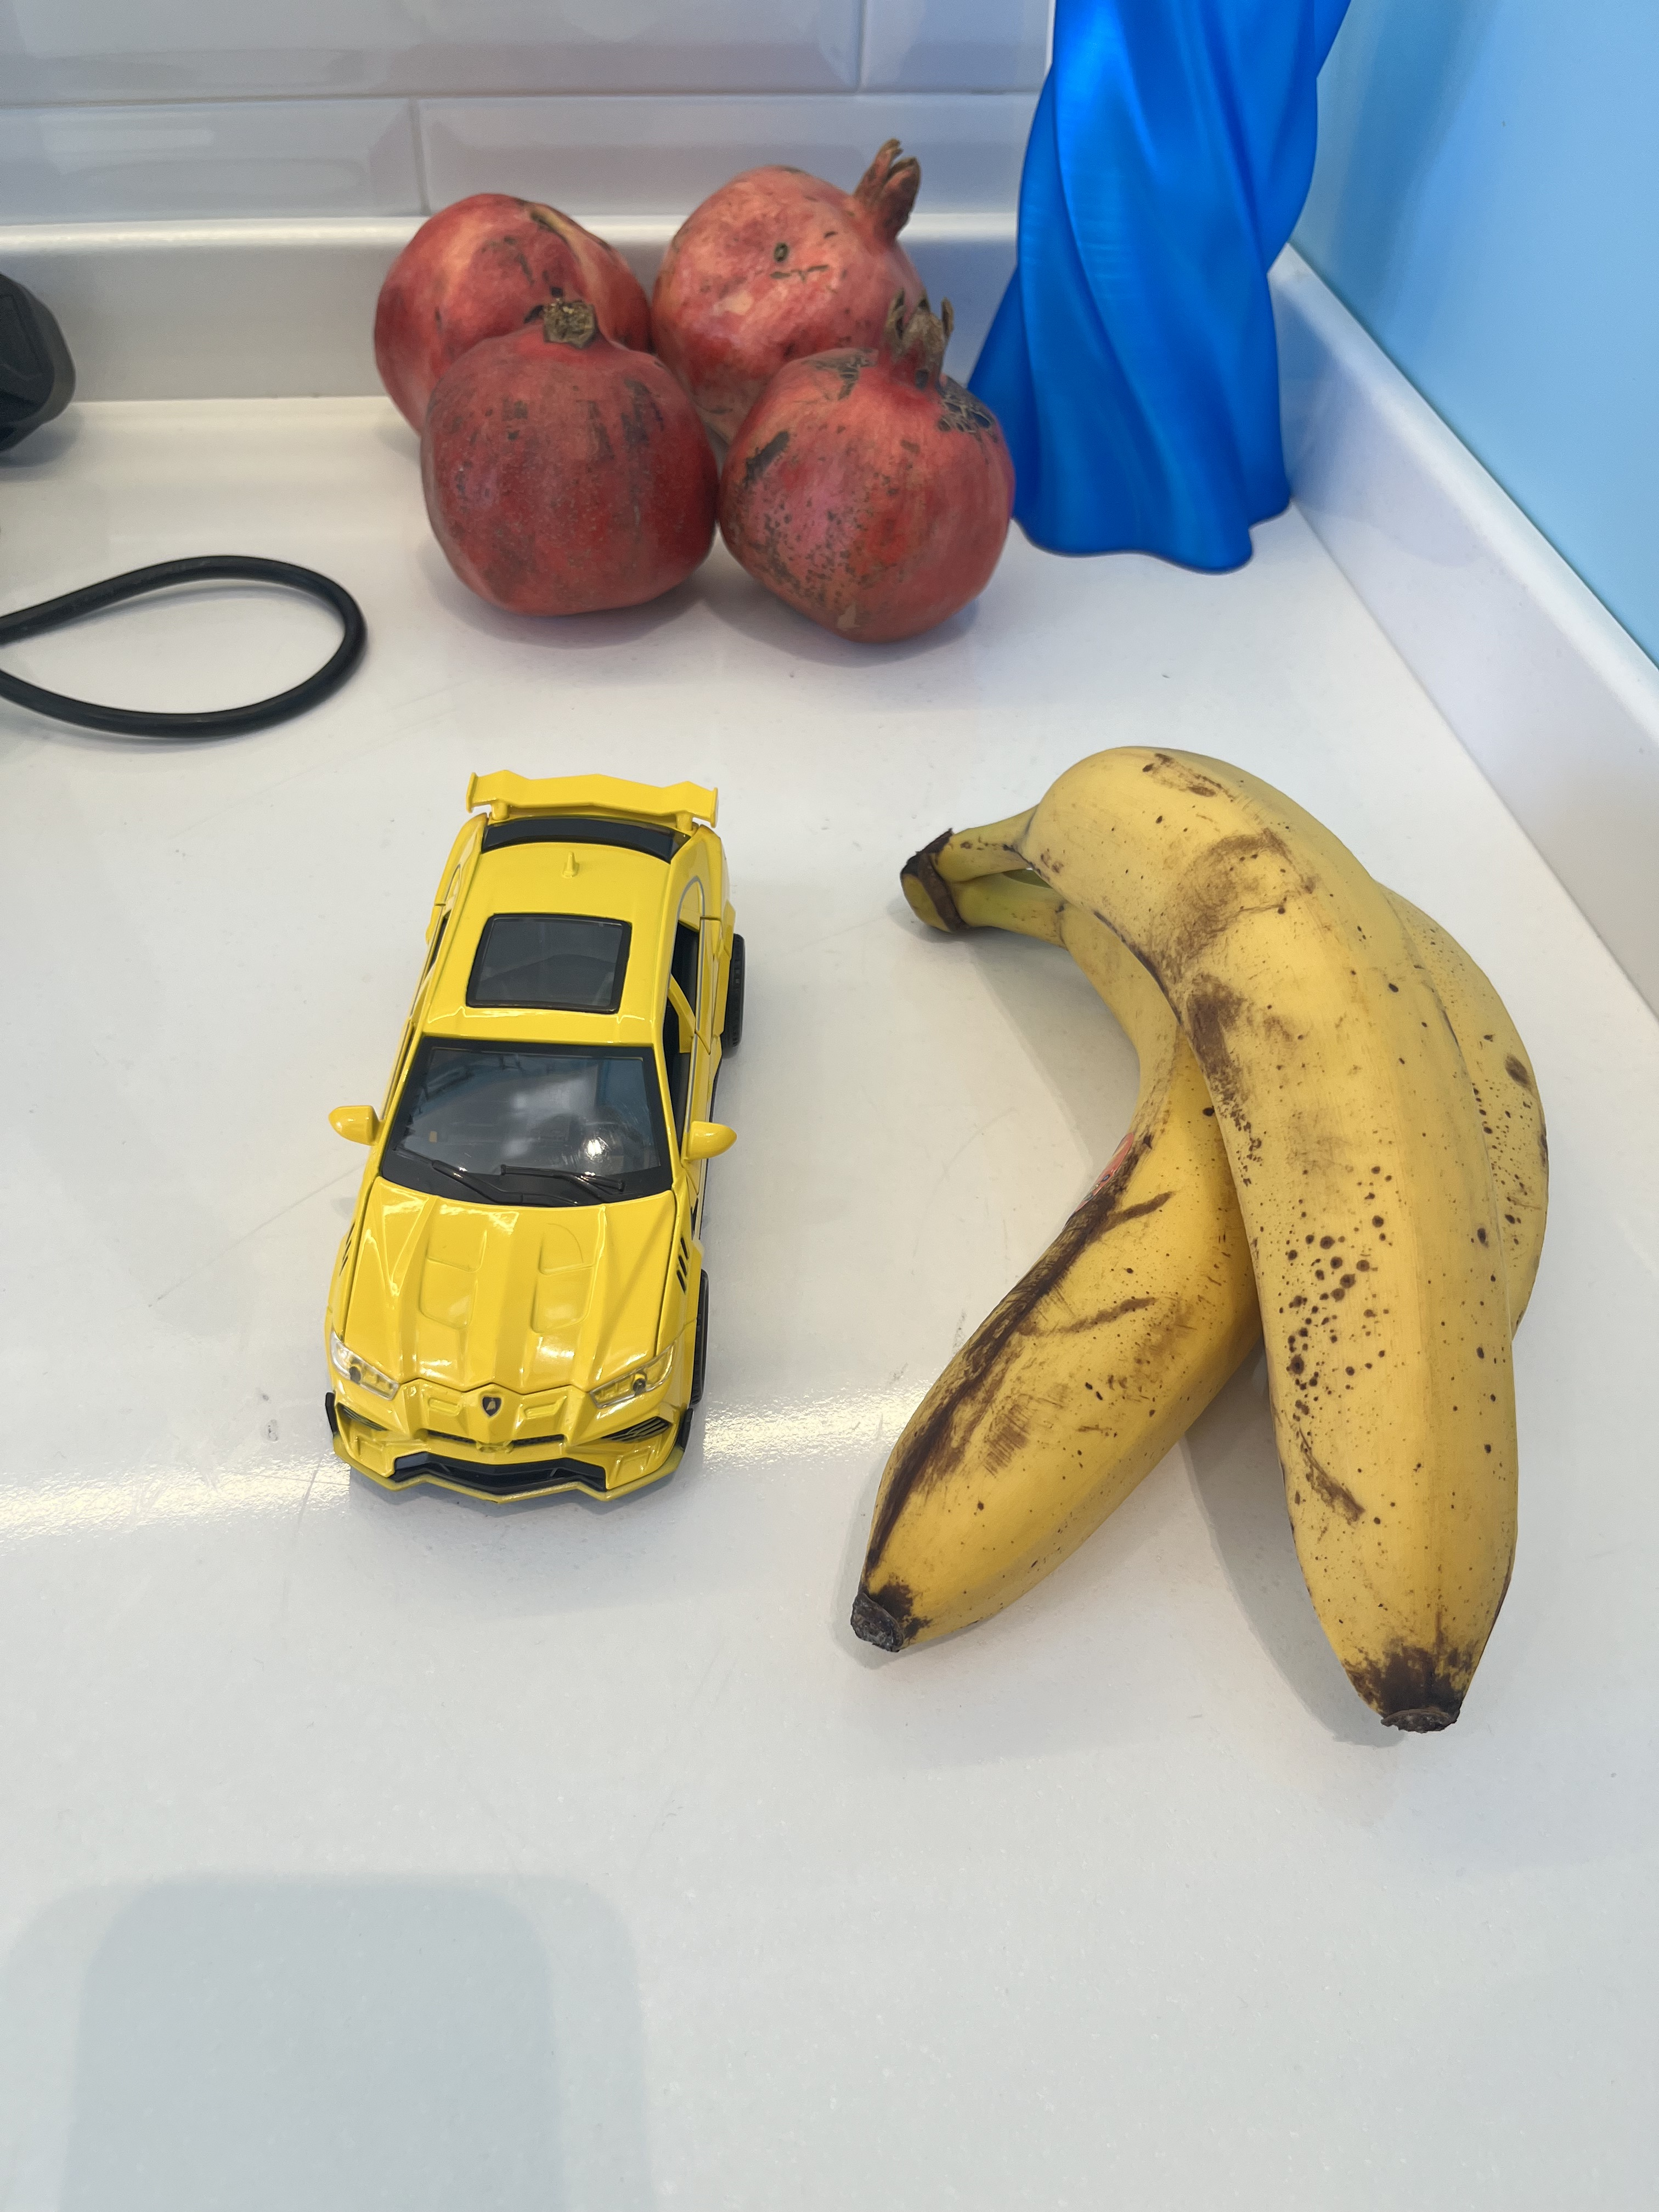lambo: (305, 754, 758, 1538)
